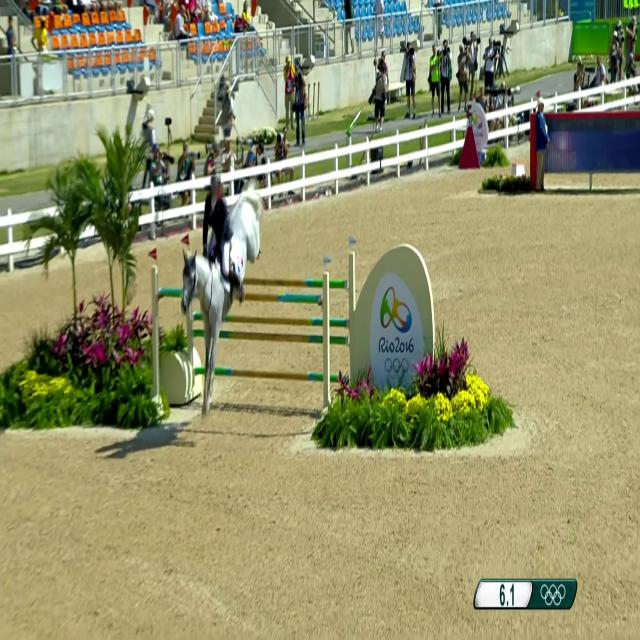Horse Jumping: (177, 158, 281, 318)
